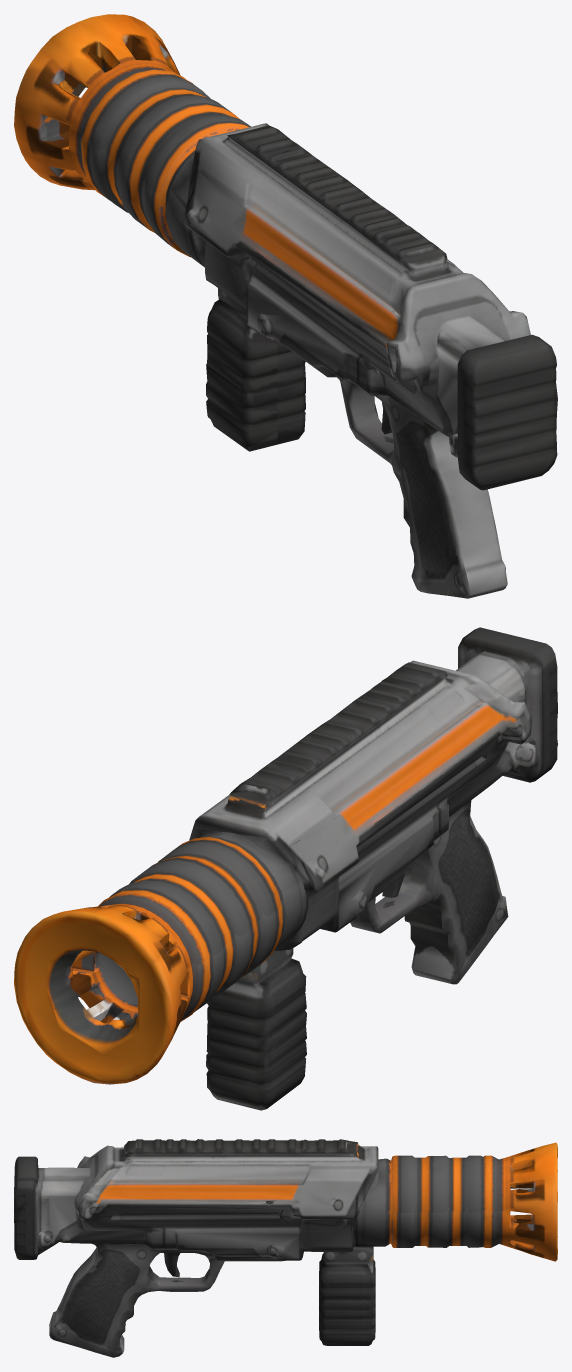
Rendered from scatter.glb.
The picture shows the model from 3 angles, top to bottom: view 1: azimuth 30°, elevation 25°; view 2: azimuth 150°, elevation 25°; view 3: azimuth 270°, elevation 25°; orthographic projection. The views are drawn at different scales.
Parts seen in each view (by area): view 1: low; view 2: low; view 3: low.
Part boxes in pixels (x1=…): low: x1=14, y1=14, x2=557, y2=598; low: x1=14, y1=627, x2=557, y2=1110; low: x1=14, y1=1139, x2=557, y2=1357.
Bounding box in the file's own units: 0.108 × 0.2117 × 0.5.
Materials: 1 (1 with a texture image).
